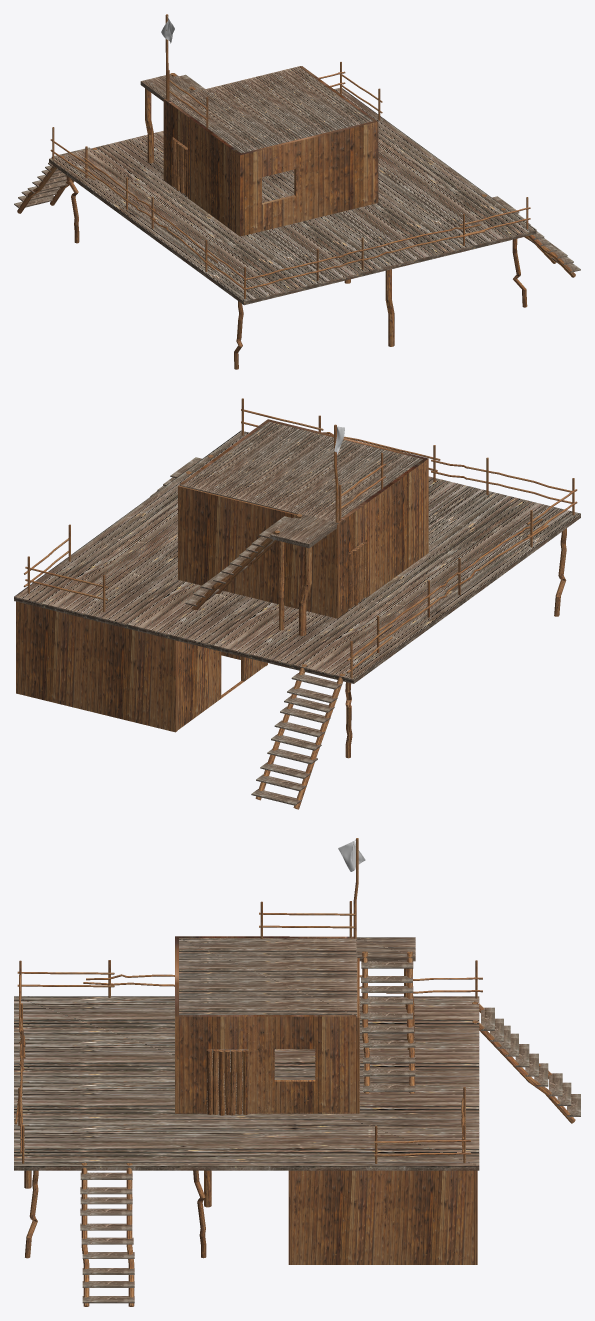
File: cabin.fbx
3 renders of one model, top to bottom at view 1: azimuth 30°, elevation 25°; view 2: azimuth 150°, elevation 25°; view 3: azimuth 270°, elevation 25°, orthographic. The views are drawn at different scales.
Parts seen in each view (by area): view 1: floor, Cube, floor.001, staircase.002, staircase, floor.002, door_back, pole2.001, pole2; view 2: floor, Cube.001, floor.001, Cube.005, Cube, staircase.002, Cube.004, staircase.001, floor.002, door_back, pole2, pole2.007 (+1 smaller); view 3: floor, Cube.003, Cube, floor.001, staircase, staircase.001, staircase.002, door_front, floor.002.
Part boxes in pixels (box(x1,y1,x2,y2)): floor: box(49, 88, 536, 305); Cube: box(164, 66, 378, 236); floor.001: box(169, 66, 373, 153); staircase.002: box(14, 147, 97, 213); staircase: box(482, 194, 580, 277); floor.002: box(140, 74, 198, 101); door_back: box(172, 138, 187, 196); pole2.001: box(385, 269, 394, 346); pole2: box(145, 88, 153, 163); floor: box(14, 430, 580, 683); Cube.001: box(16, 601, 177, 732); floor.001: box(179, 421, 422, 523); Cube.005: box(178, 485, 338, 618); Cube: box(179, 419, 428, 617); staircase.002: box(251, 664, 345, 809); Cube.004: box(177, 641, 265, 729); staircase.001: box(185, 514, 302, 610); floor.002: box(270, 513, 337, 548); door_back: box(348, 541, 367, 608); pole2: box(299, 547, 311, 635); pole2.007: box(279, 541, 284, 630); floor: box(14, 996, 479, 1170); Cube.003: box(292, 1170, 473, 1264); Cube: box(175, 936, 355, 1113); floor.001: box(179, 938, 357, 1017); staircase: box(80, 1162, 134, 1306); staircase.001: box(361, 951, 415, 1093); staircase.002: box(472, 1001, 580, 1123); door_front: box(206, 1049, 248, 1115); floor.002: box(356, 937, 415, 961).
Size of the model in its own units: 7101 by 4635 by 7970.
